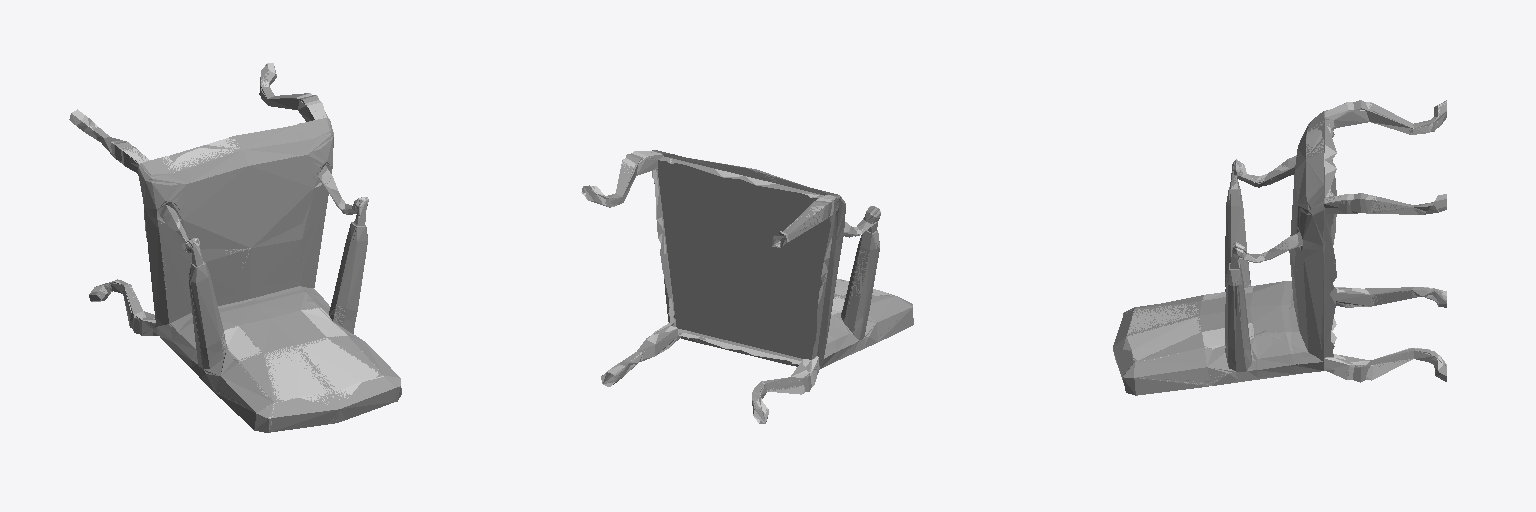
Rendered from elevator_chair.obj.
3 views of the same model, side by side, from view 1: azimuth 30°, elevation 25°; view 2: azimuth 150°, elevation 25°; view 3: azimuth 270°, elevation 25° (orthographic).
Visible parts, largest first — view 1: g_elevator_chair, g_elevator_chair_lod1, c_cloth, c_wood; view 2: g_elevator_chair_lod1, g_elevator_chair, c_wood, c_cloth; view 3: g_elevator_chair, g_elevator_chair_lod1, c_wood, c_cloth.
Boxes of the visible parts, x1=… form: g_elevator_chair: x1=88, y1=64, x2=401, y2=432; g_elevator_chair_lod1: x1=85, y1=86, x2=399, y2=431; c_cloth: x1=161, y1=138, x2=383, y2=428; c_wood: x1=69, y1=63, x2=368, y2=335; g_elevator_chair_lod1: x1=583, y1=153, x2=912, y2=423; g_elevator_chair: x1=582, y1=150, x2=913, y2=423; c_wood: x1=581, y1=151, x2=880, y2=422; c_cloth: x1=682, y1=168, x2=891, y2=365; g_elevator_chair: x1=1113, y1=102, x2=1446, y2=395; g_elevator_chair_lod1: x1=1113, y1=100, x2=1446, y2=382; c_wood: x1=1231, y1=100, x2=1446, y2=381; c_cloth: x1=1113, y1=121, x2=1323, y2=385.
Size of the model in its own units: 76.65 by 77.1 by 108.